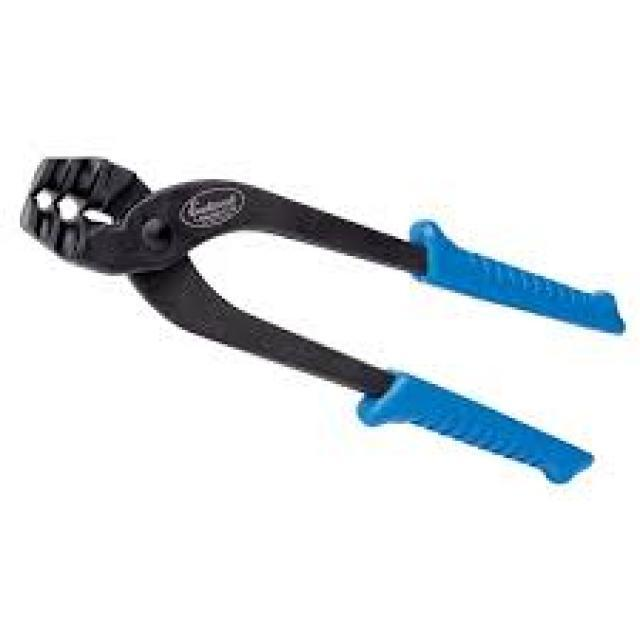pliers: (0, 145, 626, 489)
